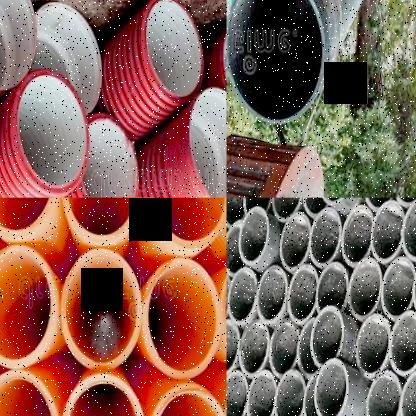pipe: (226, 0, 326, 124), (60, 248, 142, 371), (12, 72, 90, 193), (142, 258, 220, 379), (28, 3, 102, 113), (0, 244, 56, 369), (144, 0, 203, 98), (77, 113, 138, 198), (188, 88, 226, 198), (147, 198, 227, 249), (62, 198, 142, 244), (61, 374, 146, 416), (0, 0, 38, 90), (0, 368, 58, 416), (0, 198, 58, 238), (310, 305, 345, 368), (356, 314, 390, 378), (381, 257, 415, 321), (370, 200, 404, 264), (147, 389, 227, 416), (348, 258, 382, 320), (314, 358, 349, 416), (342, 205, 374, 267), (309, 207, 341, 268), (256, 265, 288, 323), (238, 207, 270, 265), (388, 310, 416, 375), (280, 212, 310, 271), (287, 265, 317, 323), (316, 262, 349, 313), (239, 320, 269, 376), (365, 370, 401, 416), (269, 322, 299, 377), (227, 268, 257, 323), (275, 368, 305, 416), (246, 369, 276, 416), (302, 369, 329, 416), (297, 318, 318, 378), (226, 369, 248, 416), (401, 197, 416, 261), (227, 219, 243, 276), (399, 369, 416, 416), (271, 198, 303, 222), (226, 320, 239, 375), (227, 198, 245, 228), (302, 198, 330, 216), (362, 198, 394, 212), (319, 198, 350, 209), (412, 253, 416, 318), (393, 198, 416, 207)
